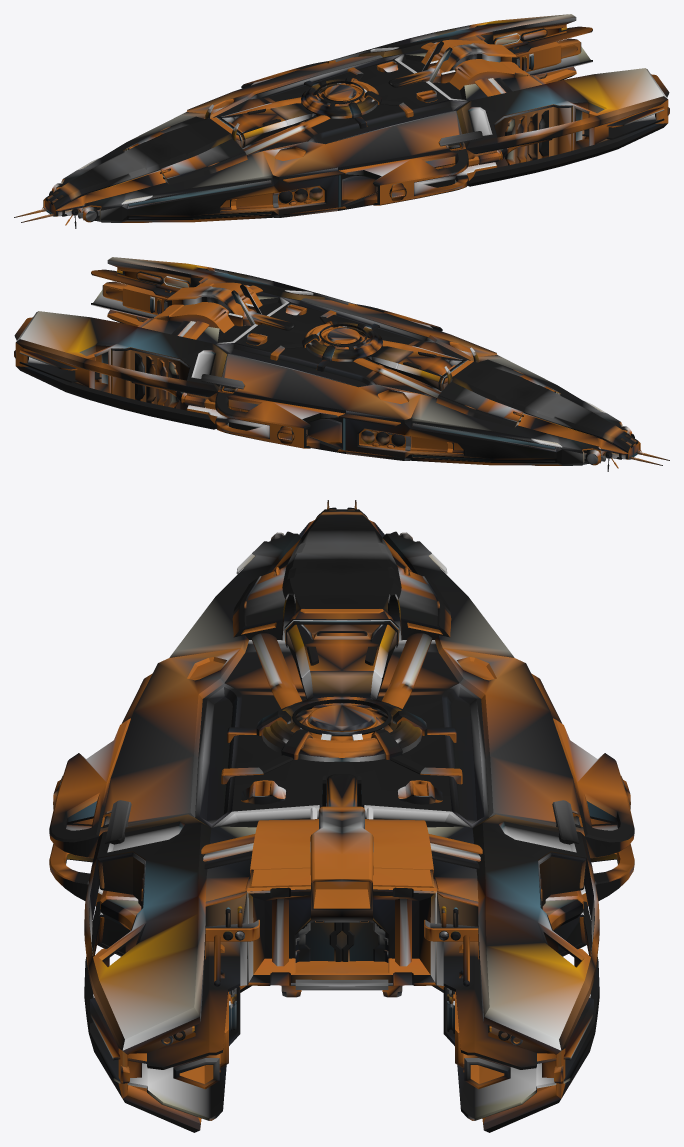
Rendered from baked_spaceship.glb.
The picture shows the model from 3 angles, top to bottom: view 1: azimuth 30°, elevation 25°; view 2: azimuth 150°, elevation 25°; view 3: azimuth 270°, elevation 25°; orthographic projection. The views are drawn at different scales.
Visible parts, largest first — view 1: o_100_mk2_low; view 2: o_100_mk2_low; view 3: o_100_mk2_low.
Boxes of the visible parts, box(x1,y1,x2,y2) form: o_100_mk2_low: box(14, 14, 669, 228); o_100_mk2_low: box(14, 257, 669, 471); o_100_mk2_low: box(49, 500, 634, 1132).
Size of the model in its own units: 1423 by 241 by 594.
